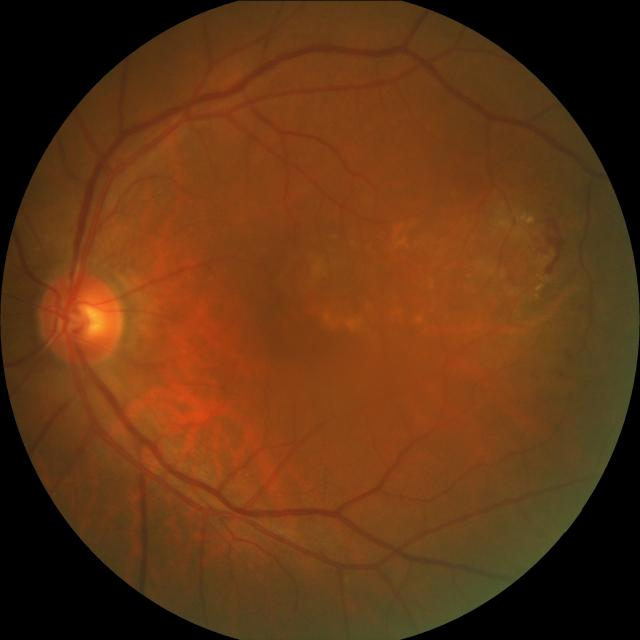OC: (61, 295, 102, 341)
OD: (36, 270, 122, 364)
